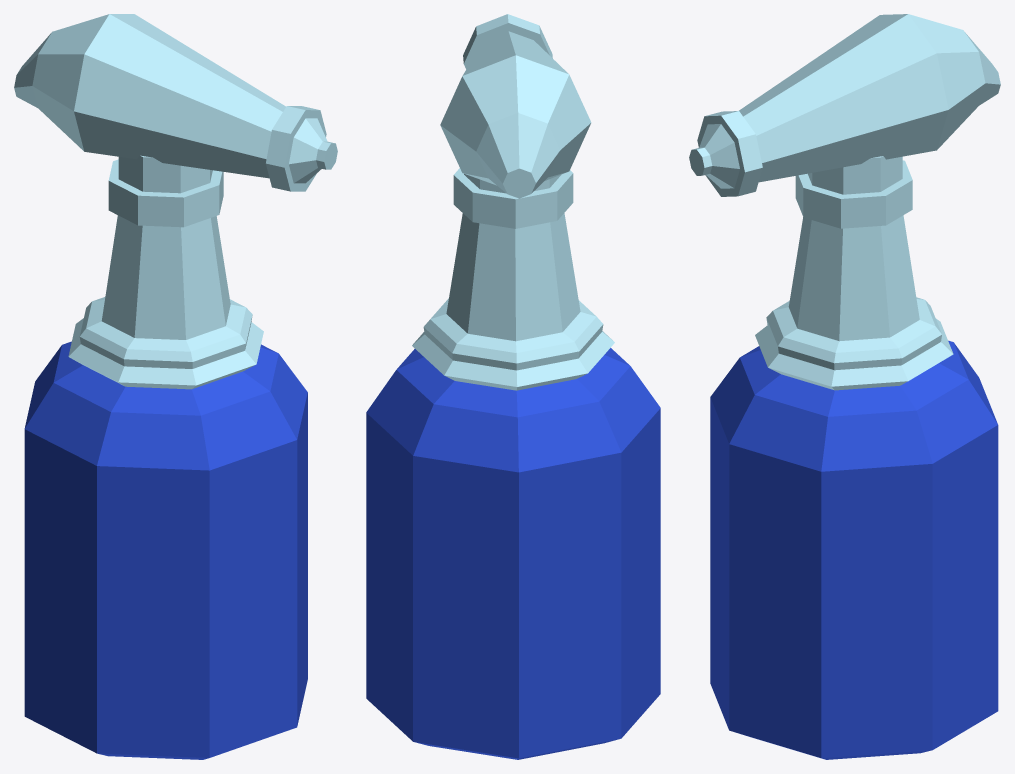
File: JC_Bottle.fbx
3 renders of one model, left to right at view 1: azimuth 30°, elevation 25°; view 2: azimuth 150°, elevation 25°; view 3: azimuth 270°, elevation 25°, orthographic.
Parts seen in each view (by area): view 1: Cylinder.006; view 2: Cylinder.006; view 3: Cylinder.006.
Part boxes in pixels (x1=…): Cylinder.006: x1=14, y1=14, x2=337, y2=759; Cylinder.006: x1=366, y1=14, x2=660, y2=759; Cylinder.006: x1=689, y1=14, x2=1000, y2=759.
Bounding box in the file's own units: 52.05 × 136 × 56.38.
